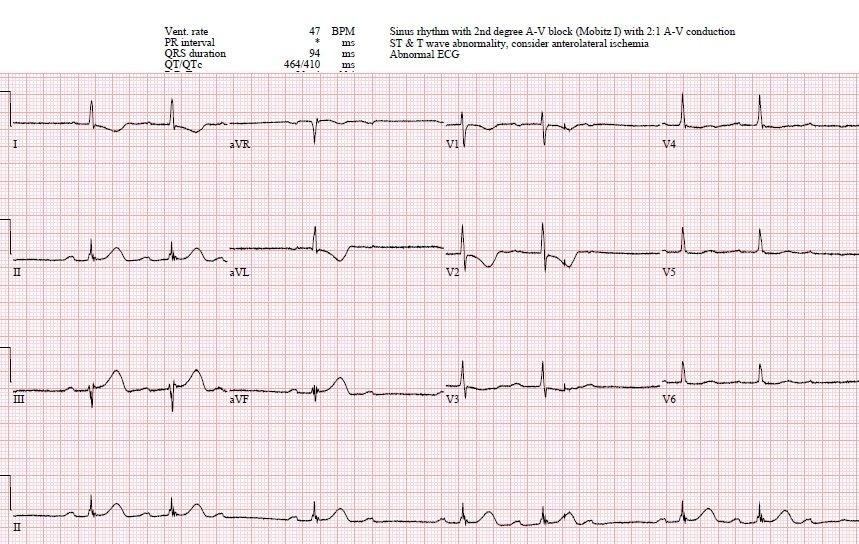Lead_I: (10, 95, 226, 161)
Lead_II: (9, 220, 229, 285)
Lead_III: (10, 349, 229, 421)
Lead_II_ext: (10, 475, 859, 541)
Lead_V1: (441, 96, 661, 159)
Lead_V2: (443, 211, 661, 286)
Lead_V3: (442, 348, 661, 423)
Lead_V4: (661, 82, 859, 171)
Lead_V5: (660, 213, 859, 292)
Lead_V6: (660, 344, 859, 426)
Lead_aVF: (228, 356, 445, 420)
Lead_aVL: (229, 214, 444, 286)
Lead_aVR: (226, 105, 446, 159)
